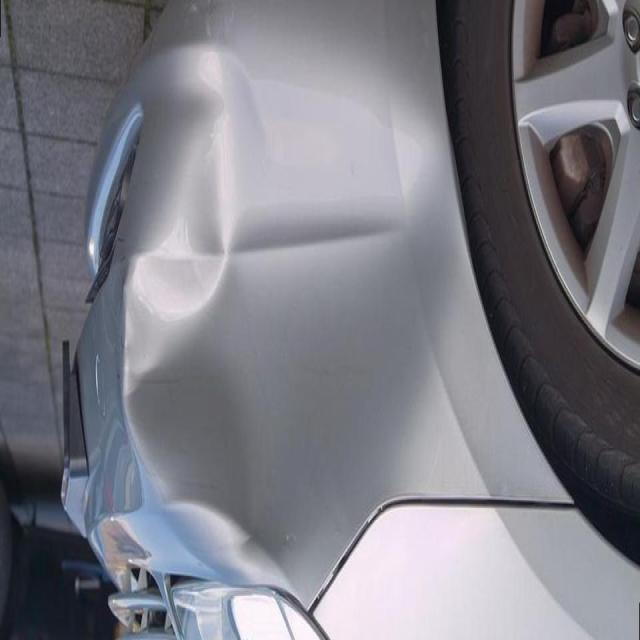dent: (119, 66, 419, 640)
